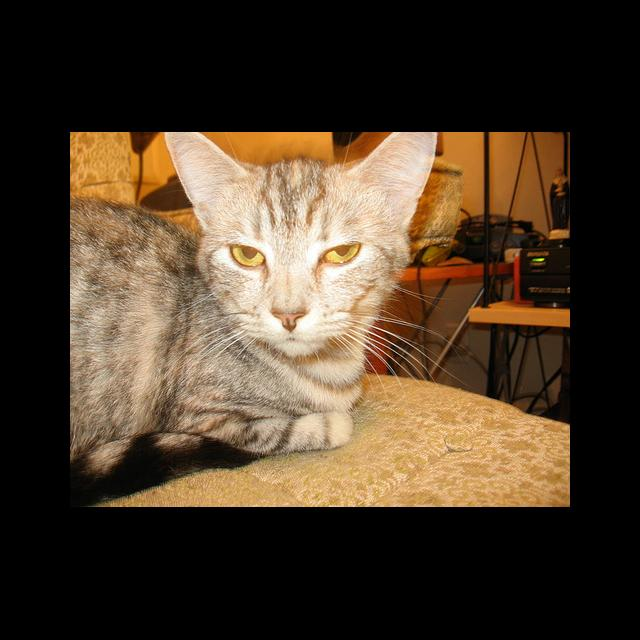animals: (164, 132, 432, 328)
